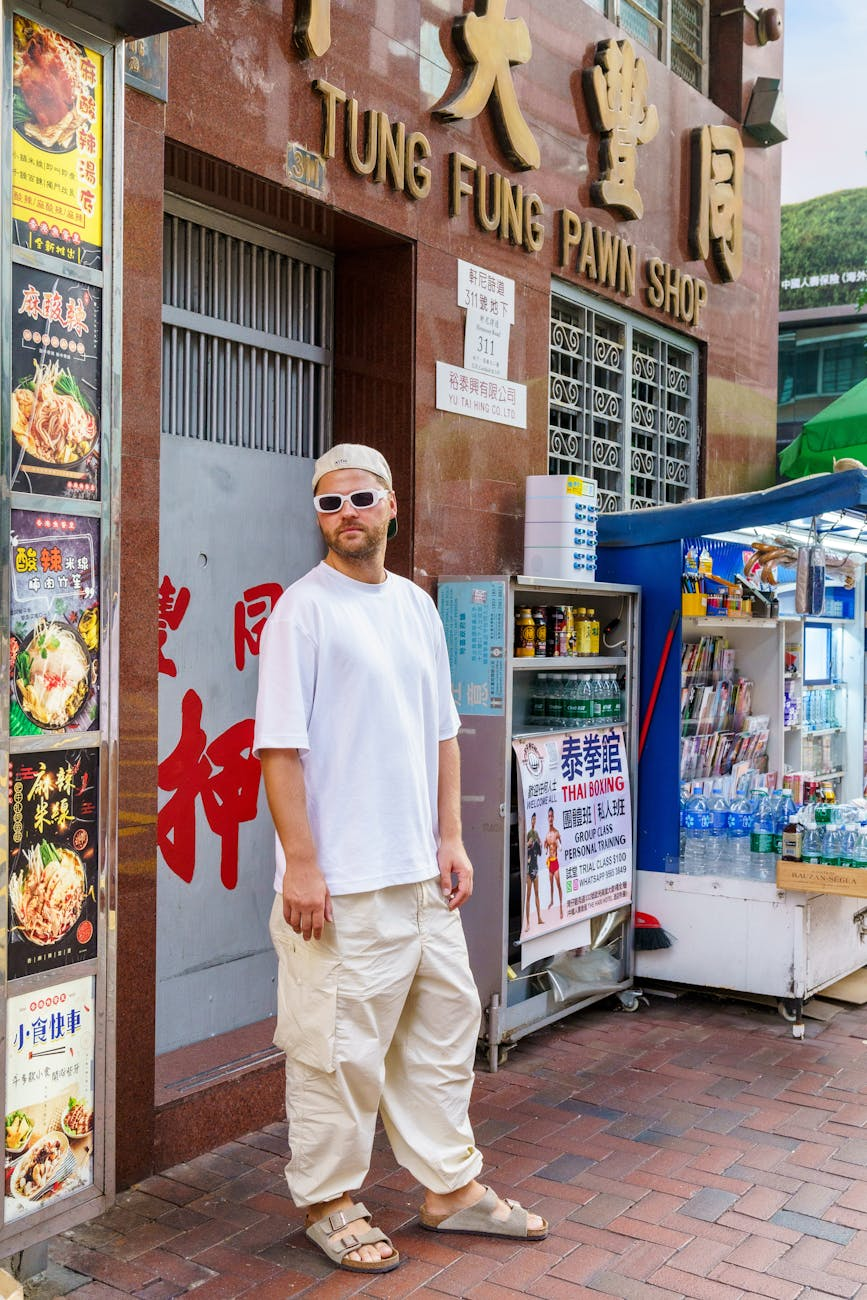opened_foot: (410, 1176, 555, 1246), (296, 1191, 405, 1274)
